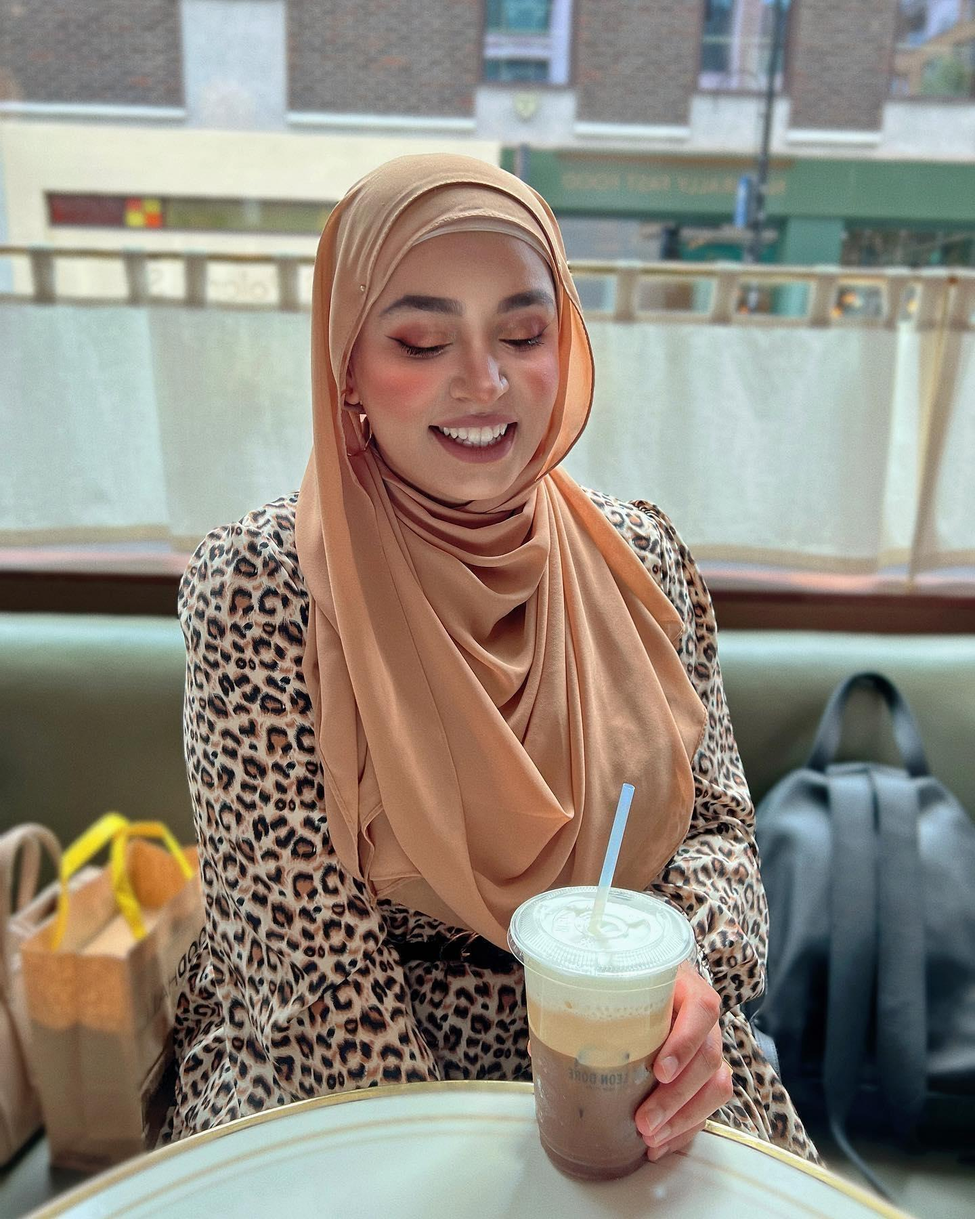cup-disposable: (504, 883, 697, 1192)
